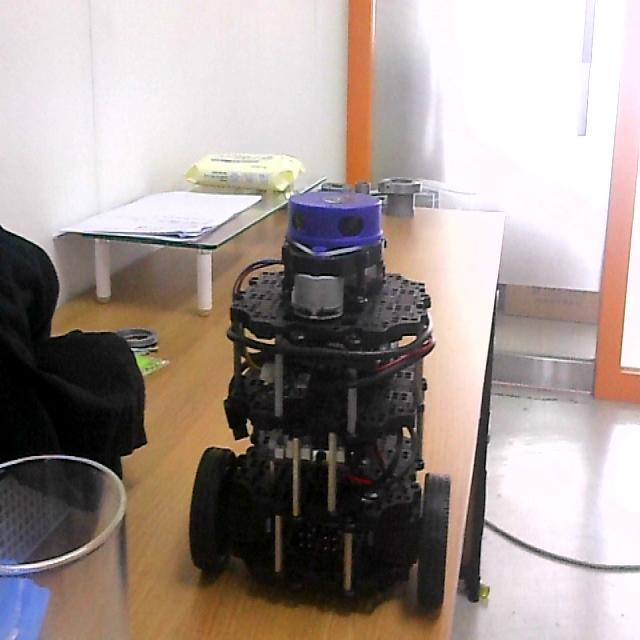turtle: (188, 188, 452, 618)
